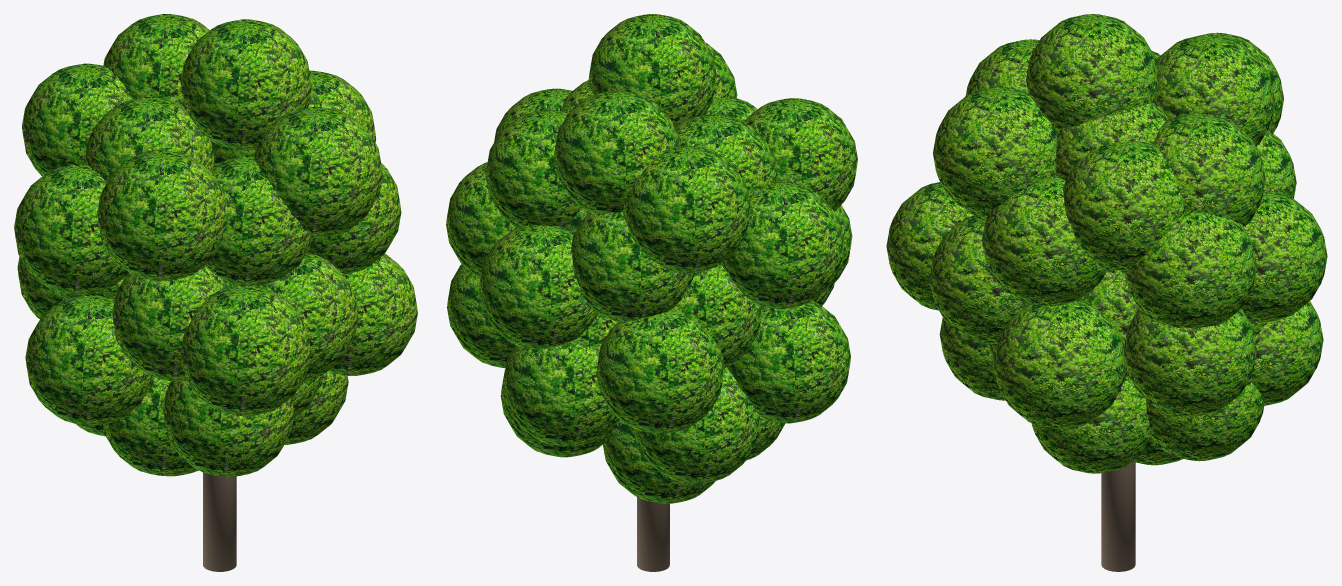
Rendered from Big Tree.fbx.
The picture shows the model from 3 angles, left to right: view 1: azimuth 30°, elevation 25°; view 2: azimuth 150°, elevation 25°; view 3: azimuth 270°, elevation 25°; orthographic projection. The views are drawn at different scales.
Parts seen in each view (by area): view 1: Cone; view 2: Cone; view 3: Cone.
Boxes of the visible parts, box(x1,y1,x2,y2) form: Cone: box(14, 14, 417, 571); Cone: box(446, 14, 857, 571); Cone: box(886, 14, 1327, 571).
Bounding box in the file's own units: 630 × 912 × 661.
